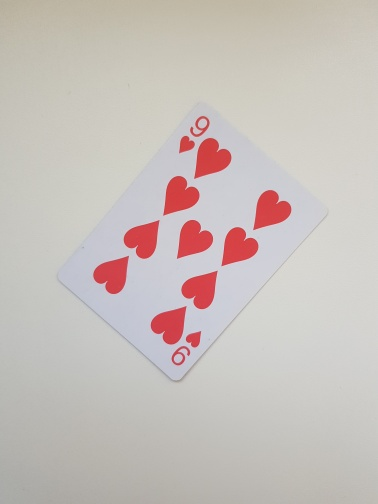nine: (55, 99, 331, 384)
